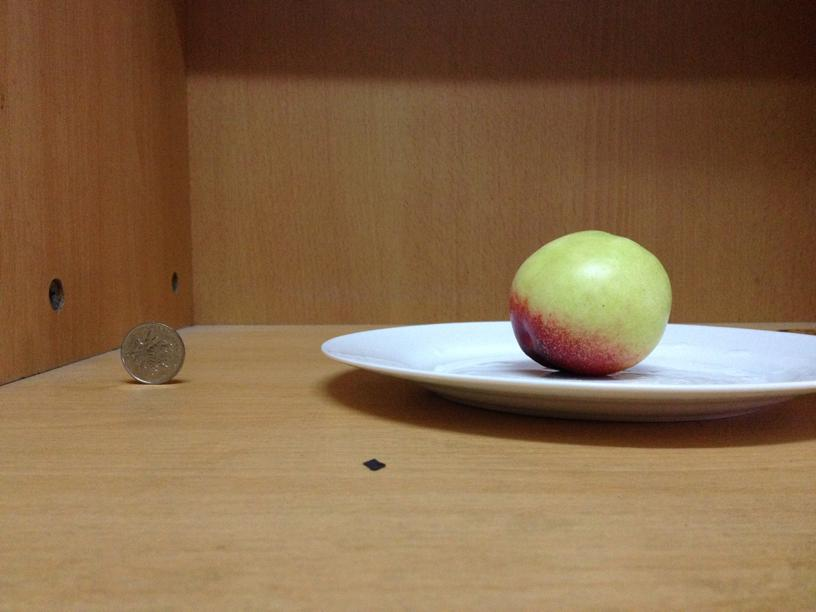coin: (116, 322, 184, 384)
peach: (502, 225, 672, 373)
